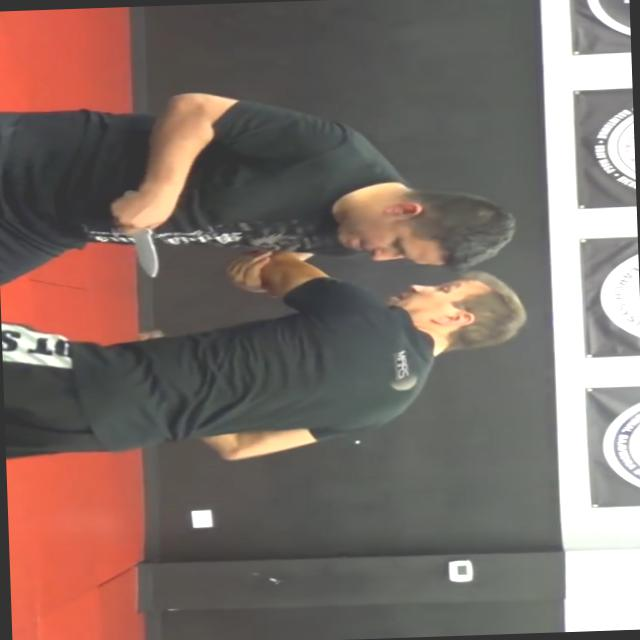knife: (111, 184, 171, 282)
